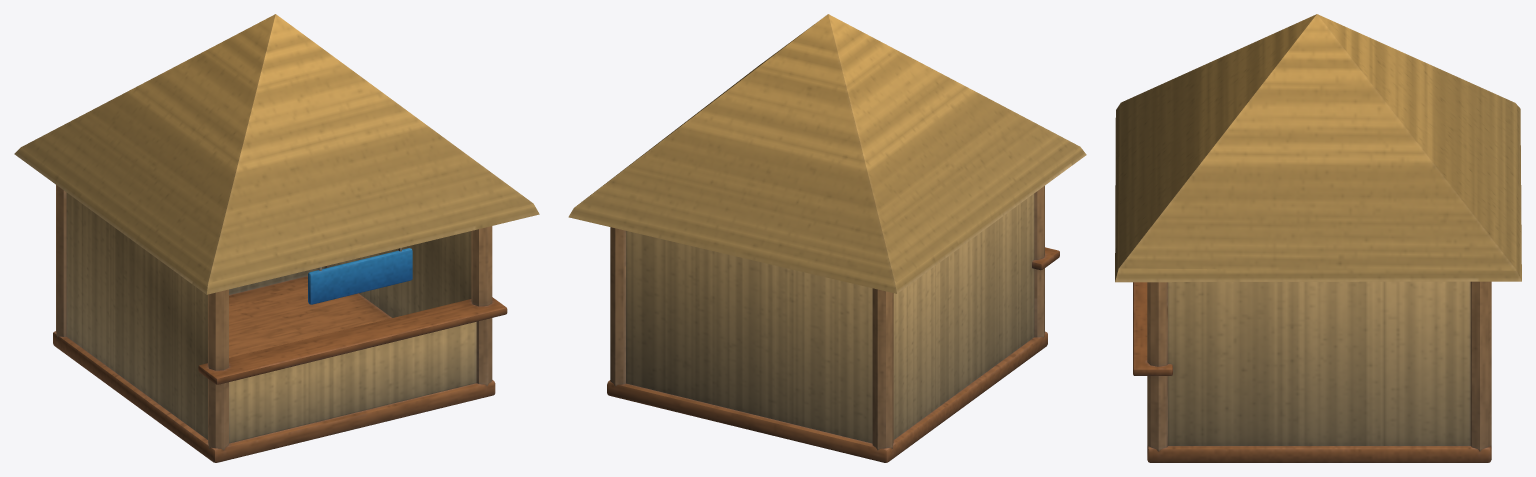
The model's file is Stage_Ocean_Hut.glb.
3 renders of one model, left to right at view 1: azimuth 30°, elevation 25°; view 2: azimuth 150°, elevation 25°; view 3: azimuth 270°, elevation 25°, orthographic. The views are drawn at different scales.
Parts seen in each view (by area): view 1: Stage_Ocean_Hut; view 2: Stage_Ocean_Hut; view 3: Stage_Ocean_Hut.
Part boxes in pixels (x1,y1,x2,y2): Stage_Ocean_Hut: [14, 14, 539, 462]; Stage_Ocean_Hut: [568, 14, 1086, 462]; Stage_Ocean_Hut: [1115, 14, 1521, 462].
Bounding box in the file's own units: 14.19 × 14.53 × 14.18.
1 material, 1 textured.
